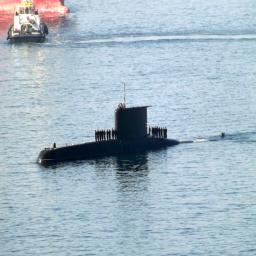submarine: (39, 106, 197, 167)
